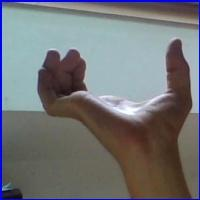B: (22, 37, 195, 166)
